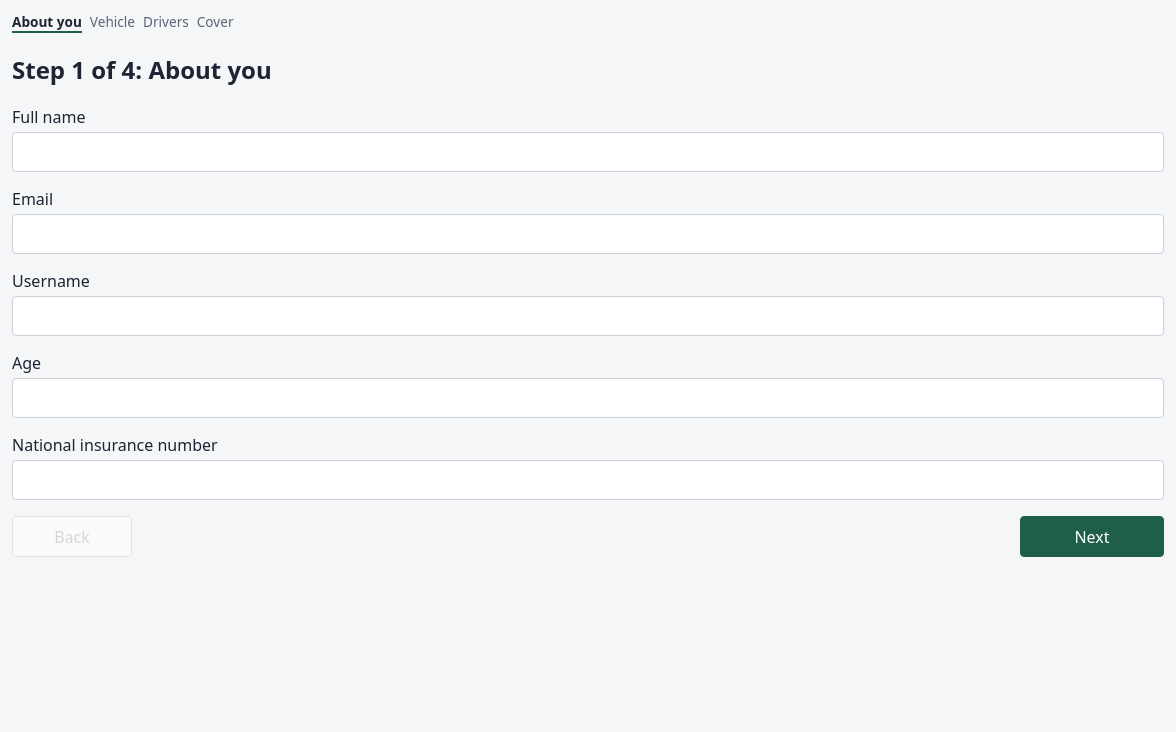
background username check › blocks Next while the check is running
Type "Sam Rao" into the field labelled "Full name". click: {"x": 588, "y": 152}
box: [12,132,1164,172]
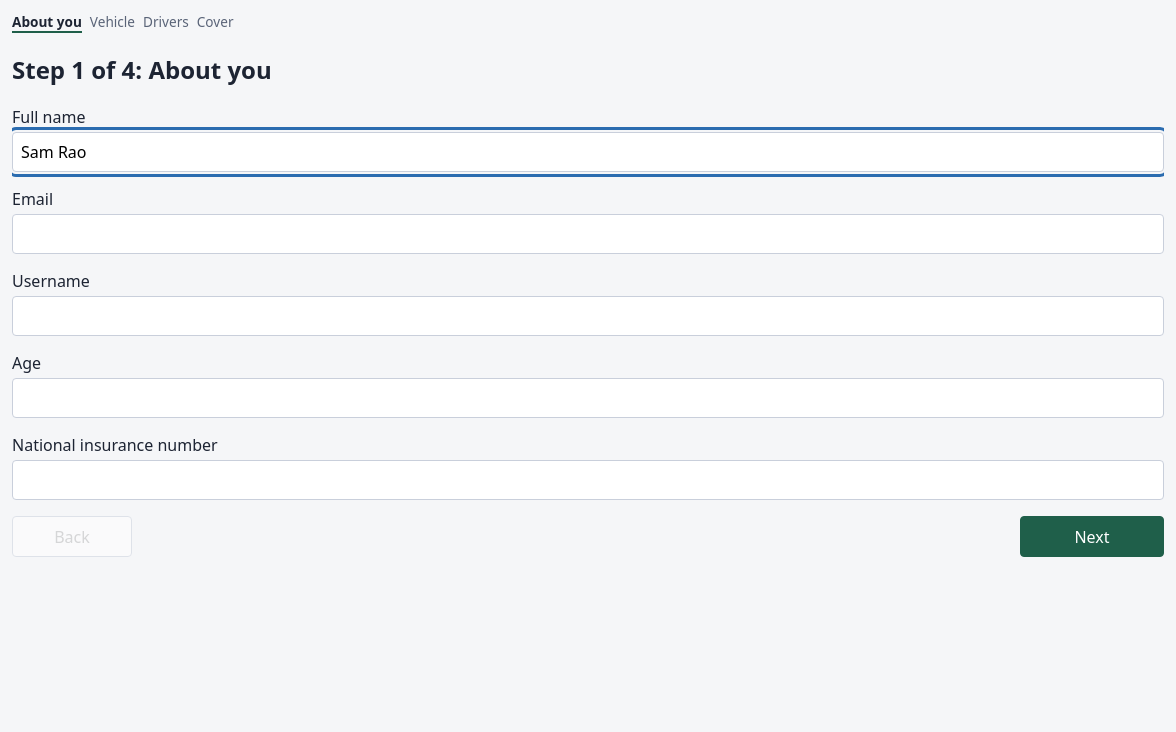
Type "sam@example.com" into the field labelled "Email". click: {"x": 588, "y": 234}
box: [12,214,1164,254]
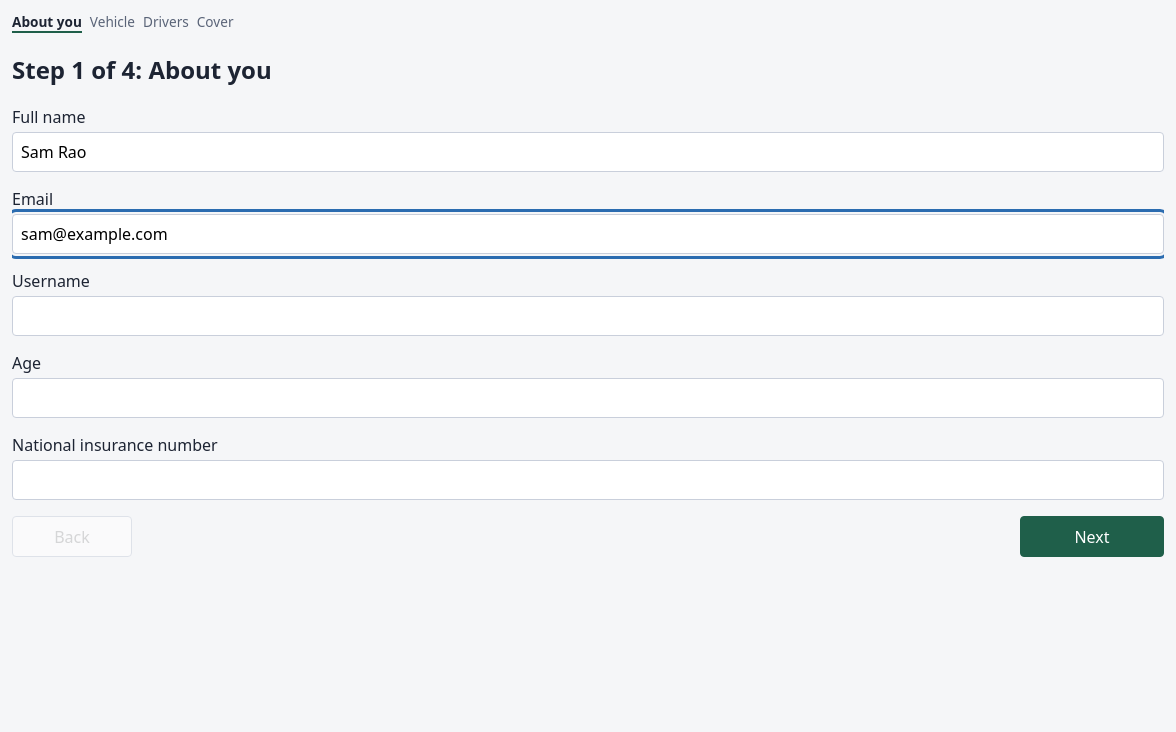
Type "sam_rao2" into the field labelled "Username". click: {"x": 588, "y": 316}
box: [12,296,1164,336]
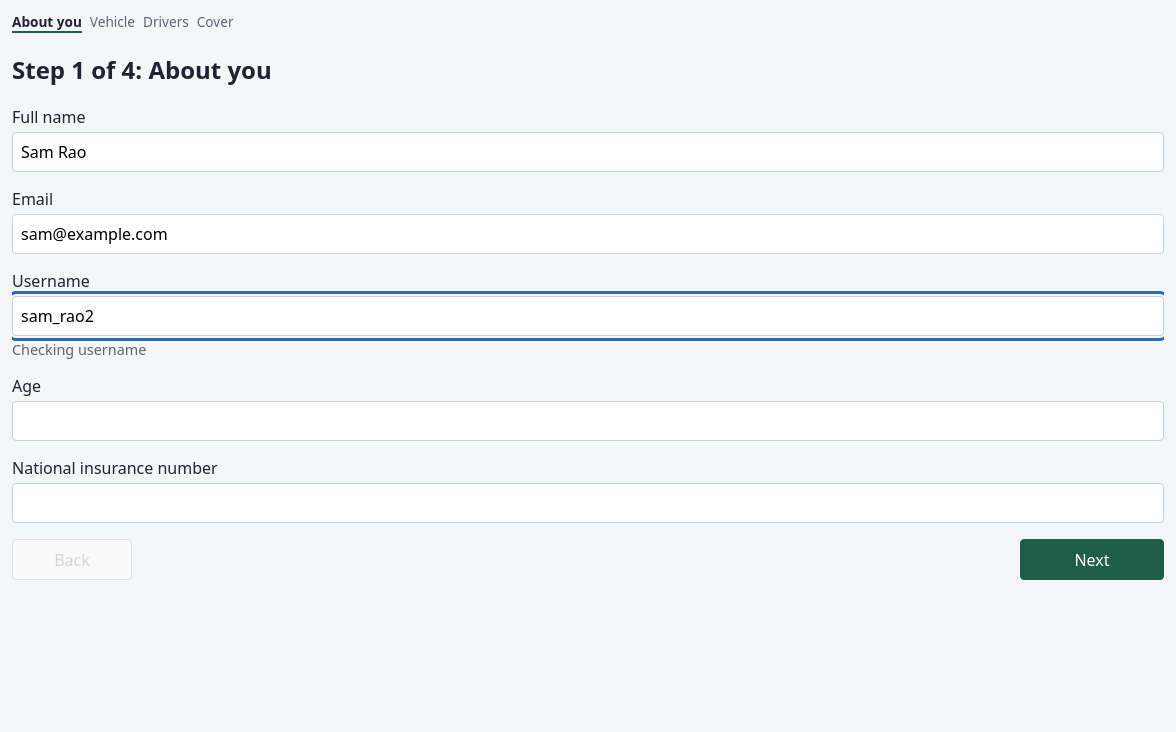
Type "34" into the number field labelled "Age". click: {"x": 588, "y": 421}
box: [12,401,1164,441]
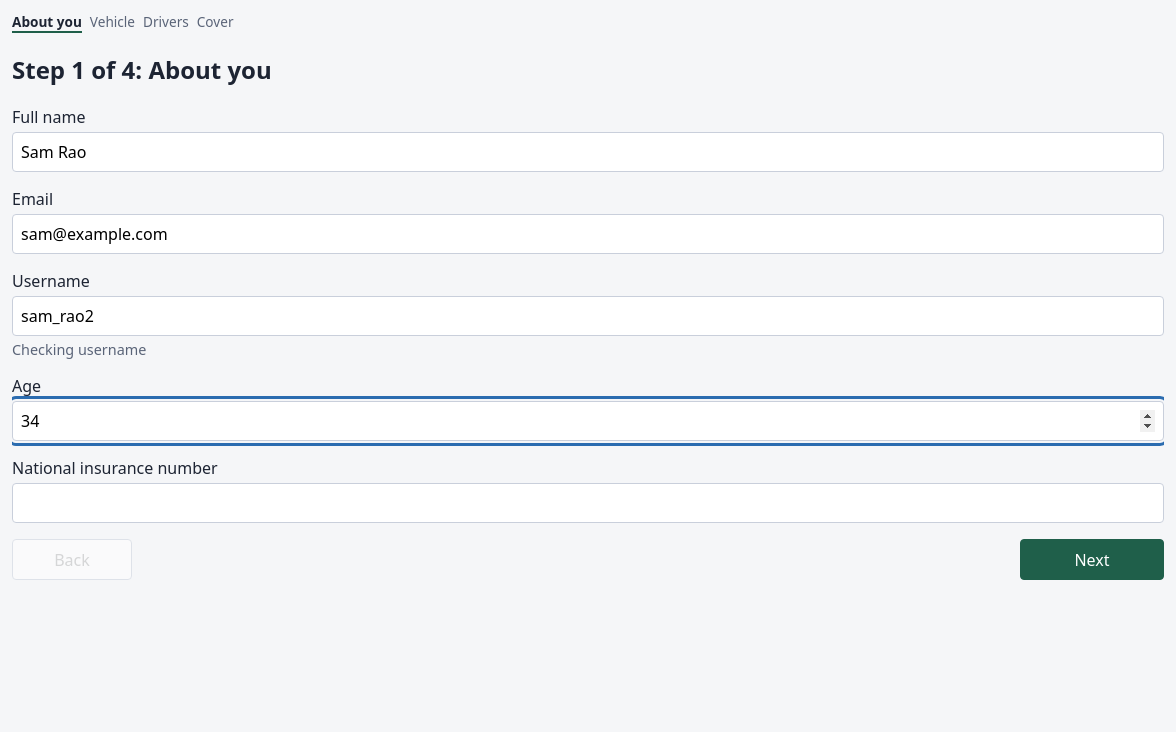
Click the button "Next". click: {"x": 1092, "y": 560}
box: [1020,539,1164,580]
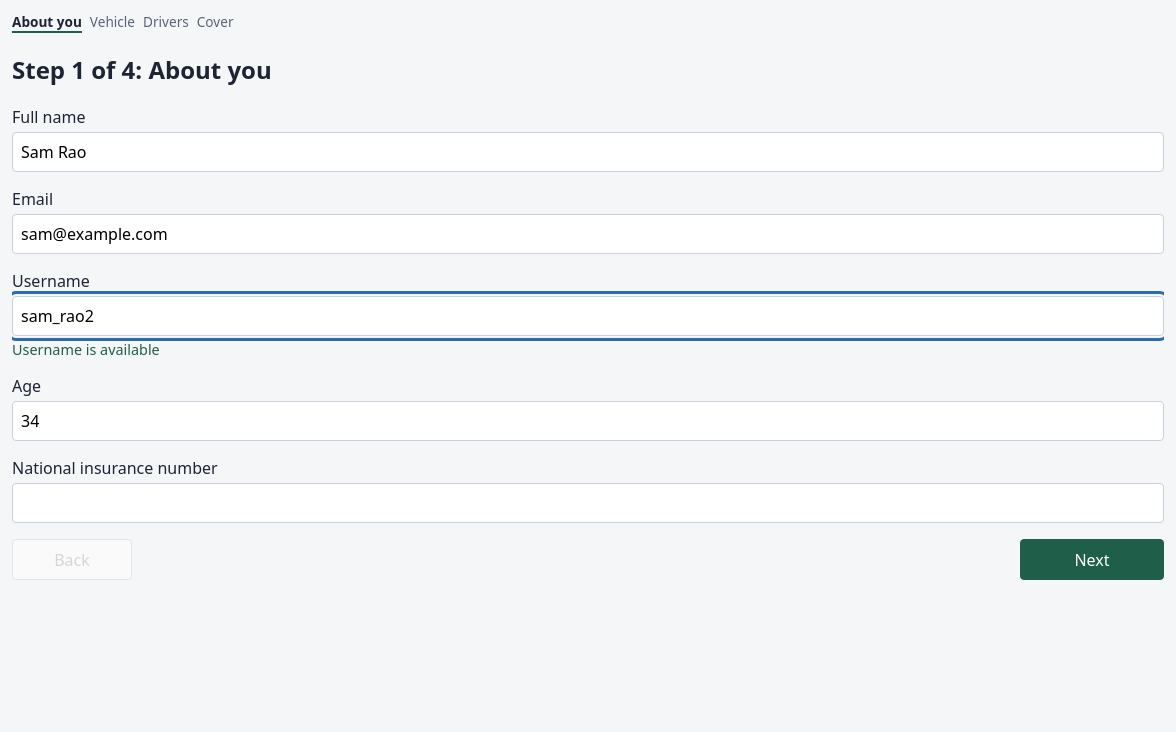
Expected: the heading shows "Step 1", [12,53,272,86]
Click the button "Next". click: {"x": 1092, "y": 560}
box: [1020,539,1164,580]
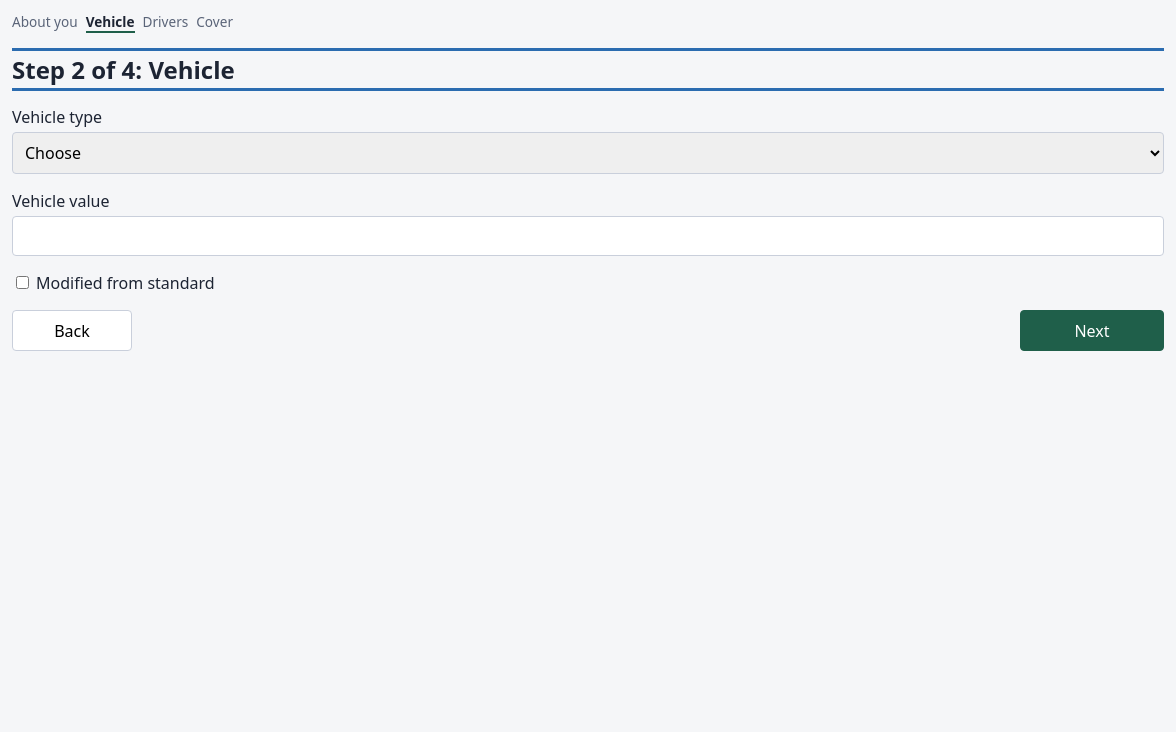
Result: the heading shows "Step 2" at [12,53,235,86]
